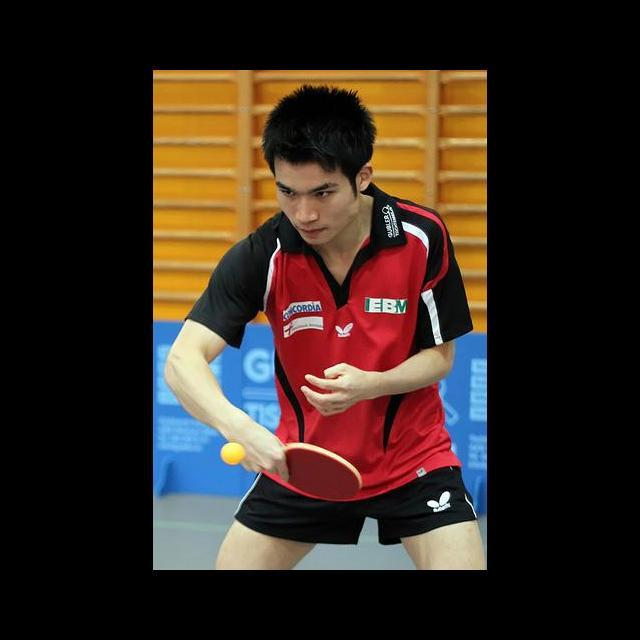ping-pong-ball: (220, 441, 246, 467)
